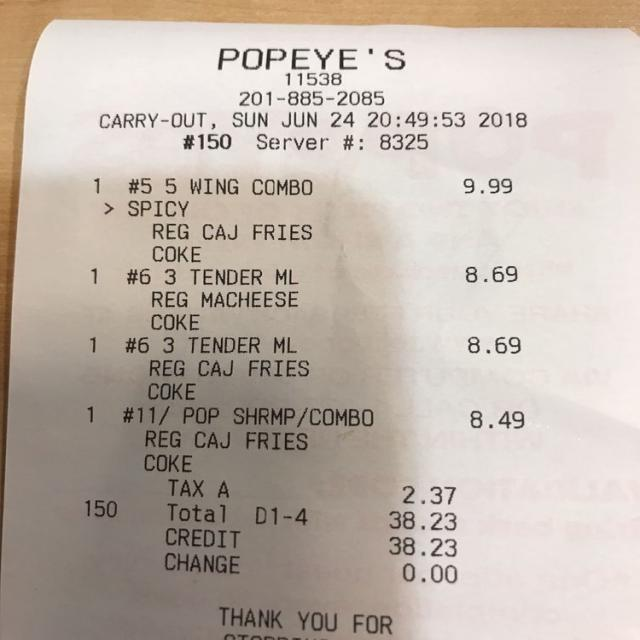TotalPrice: (152, 501, 474, 534)
